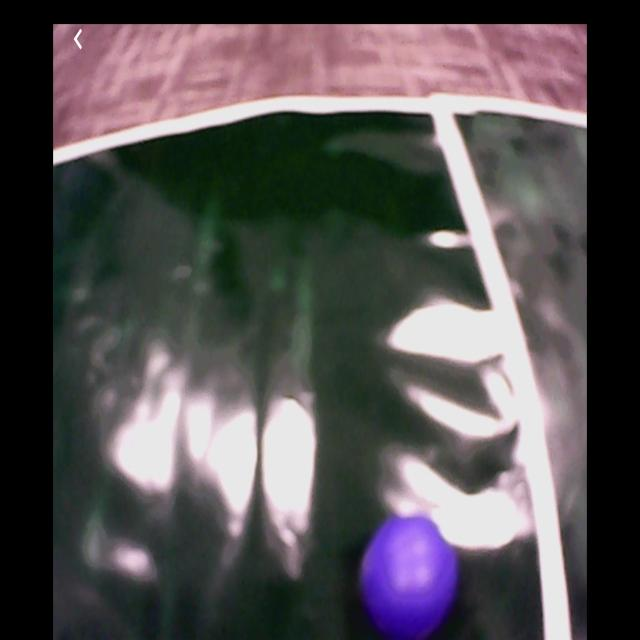ball: (366, 515, 455, 635)
